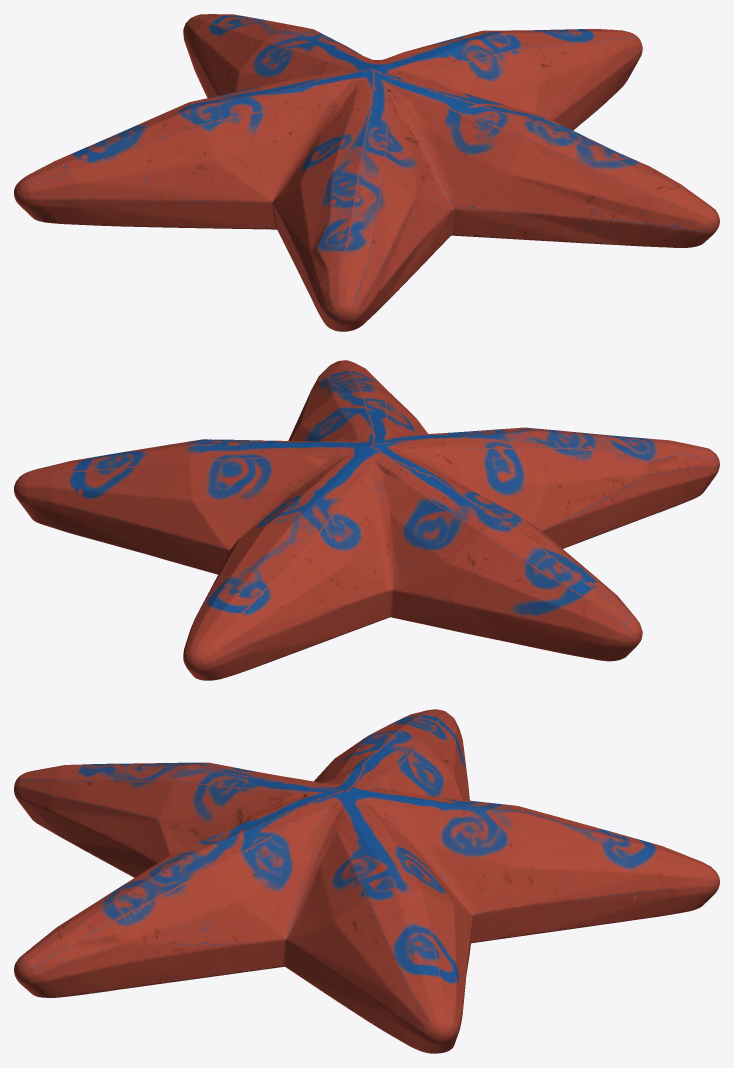
3 renders of one model, top to bottom at view 1: azimuth 30°, elevation 25°; view 2: azimuth 150°, elevation 25°; view 3: azimuth 270°, elevation 25°, orthographic. The views are drawn at different scales.
Bounding box in the file's own units: 1.79 × 0.2982 × 1.69.
Materials: 1 (1 with a texture image).
